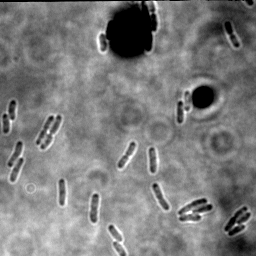Dividing: (39, 114, 62, 151), (222, 205, 248, 234), (34, 115, 55, 146), (150, 182, 170, 213), (116, 141, 137, 170), (176, 197, 208, 215), (222, 19, 240, 50), (89, 193, 100, 224)
Rod: (7, 140, 24, 168), (8, 157, 25, 184), (57, 177, 67, 208), (107, 225, 124, 243), (191, 203, 214, 216), (147, 147, 158, 174), (227, 224, 246, 239), (235, 212, 252, 227), (111, 241, 129, 255), (178, 213, 202, 223), (175, 100, 184, 126), (7, 98, 17, 121), (182, 90, 192, 113), (96, 33, 107, 52), (2, 112, 10, 135)
